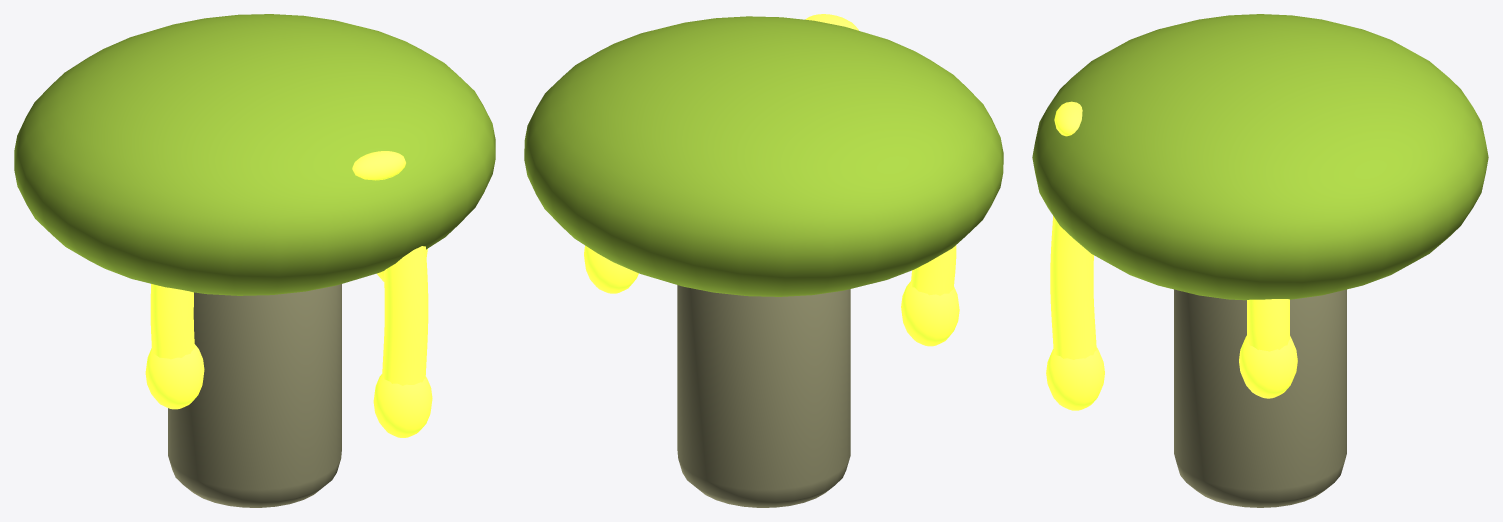
The model's file is ingredient-slime-shroom.glb.
3 renders of one model, left to right at view 1: azimuth 30°, elevation 25°; view 2: azimuth 150°, elevation 25°; view 3: azimuth 270°, elevation 25°, orthographic.
Parts seen in each view (by area): view 1: Shroom_cap, Shroom_stem, Shroom_drip_1, Shroom_drip_0, Shroom_drop_1, Shroom_drop_0, Shroom_spot_1; view 2: Shroom_cap, Shroom_stem, Shroom_drop_0, Shroom_drip_0, Shroom_drop_2; view 3: Shroom_cap, Shroom_stem, Shroom_drip_1, Shroom_drop_1, Shroom_drop_2, Shroom_drip_2, Shroom_spot_1.
Part boxes in pixels (x1,y1,x2,y2): Shroom_cap: (14,14,495,295); Shroom_stem: (168,284,341,507); Shroom_drip_1: (382,246,428,385); Shroom_drip_0: (150,284,194,359); Shroom_drop_1: (373,374,432,437); Shroom_drop_0: (145,344,204,409); Shroom_spot_1: (352,151,405,180); Shroom_cap: (524,16,1003,296); Shroom_stem: (677,285,850,507); Shroom_drop_0: (901,281,959,346); Shroom_drip_0: (911,245,956,295); Shroom_drop_2: (584,245,638,293); Shroom_cap: (1032,14,1488,300); Shroom_stem: (1174,289,1346,507); Shroom_drip_1: (1050,216,1096,359); Shroom_drop_1: (1046,347,1104,410); Shroom_drop_2: (1239,335,1297,398); Shroom_drip_2: (1246,299,1289,351); Shroom_spot_1: (1054,101,1082,136).
Size of the model in its own units: 1.24 by 1.19 by 1.16.
